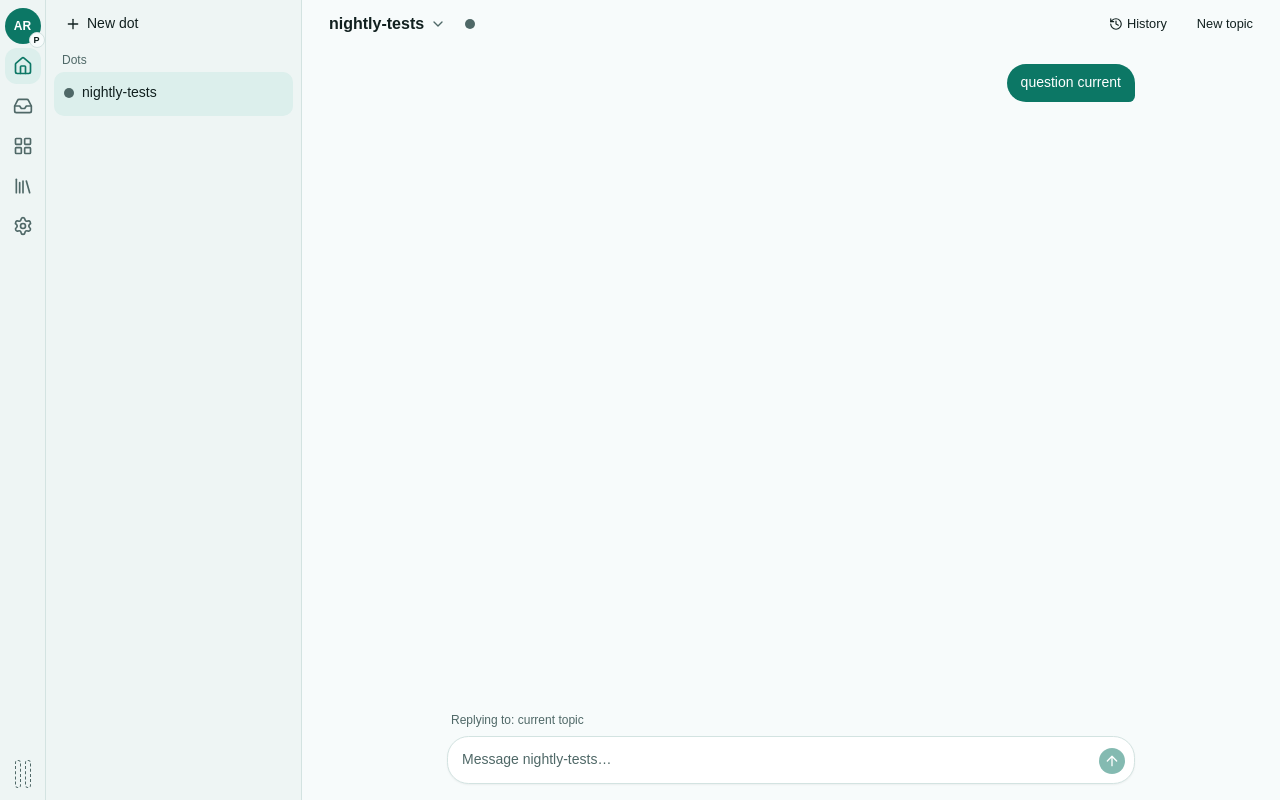
Test: sending on the home › lists older topics in History and continues one opened from there
The width and height of the screenshot is (1280, 800).
Expected: the text box labelled "Message" is enabled, [456,745,1090,775]
Click the button "History" at {"x": 1138, "y": 24}, box [1098,10,1178,38]
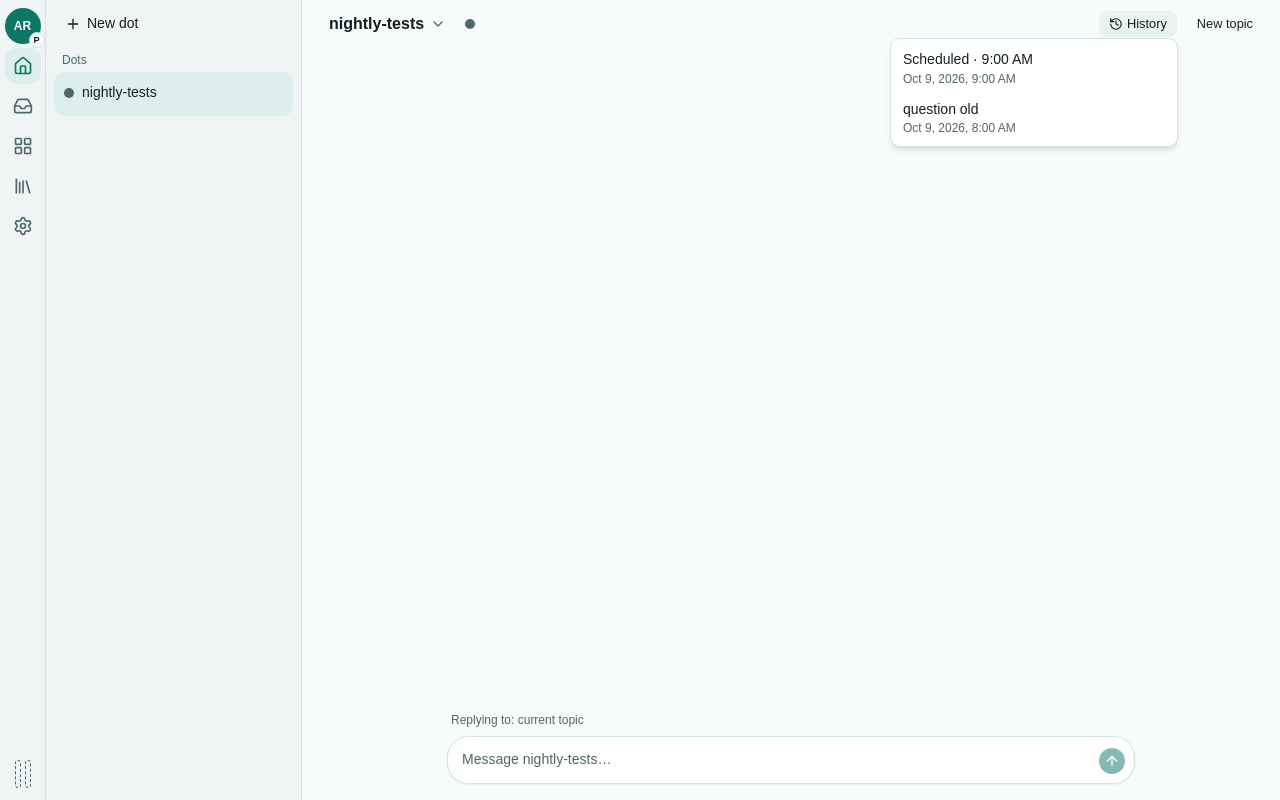
Click the menu item "question old Oct 9, 2026, 8:00 AM" at {"x": 959, "y": 118}, box [903,101,1016,135]
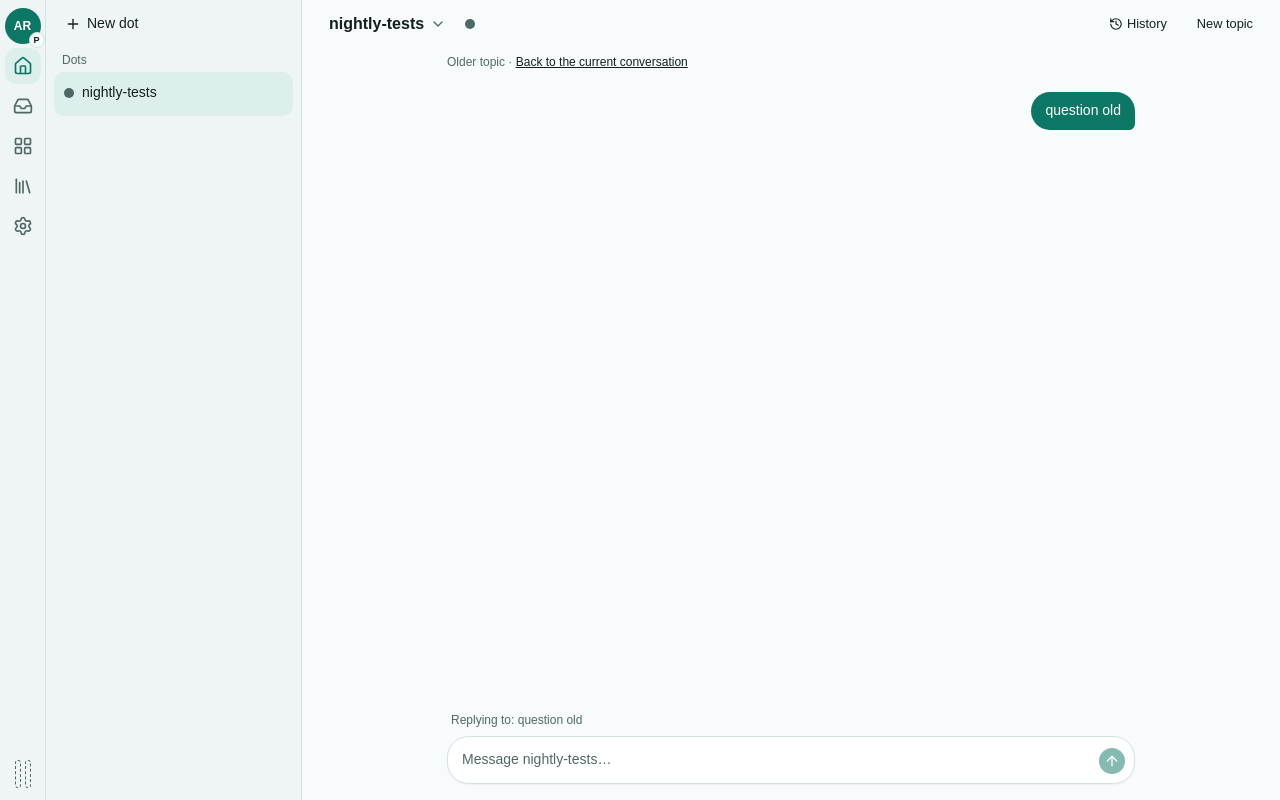
Expected: the text "Older topic ·" is shown, [447,55,512,69]
Expected: the element named "Reply target" reads "Replying to: question old", [451,713,582,727]
Type "Back to this" into the text box labelled "Message" at {"x": 773, "y": 760}, box [456,745,1090,775]
Then press Enter
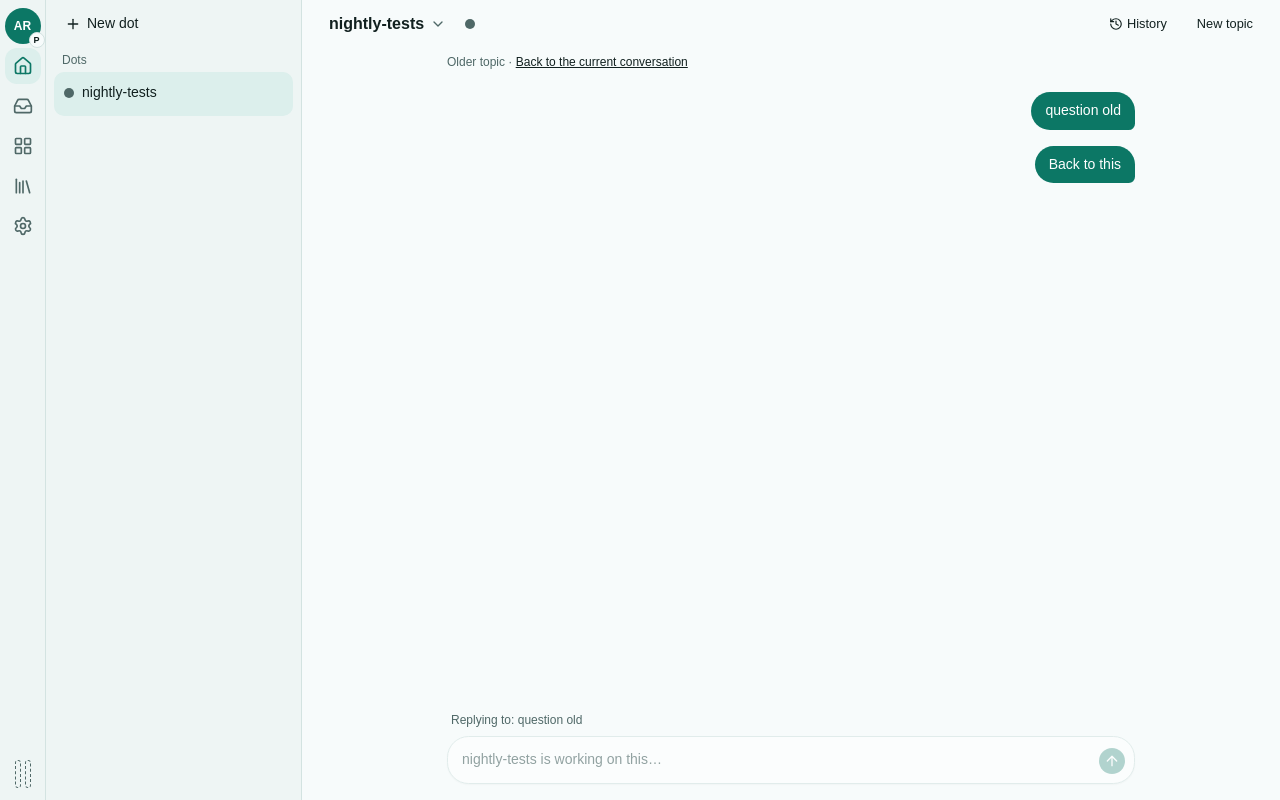
Expected: the text "Back to this" is shown, [1035,146,1135,183]
